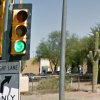Traffic light: (6, 1, 36, 70)
